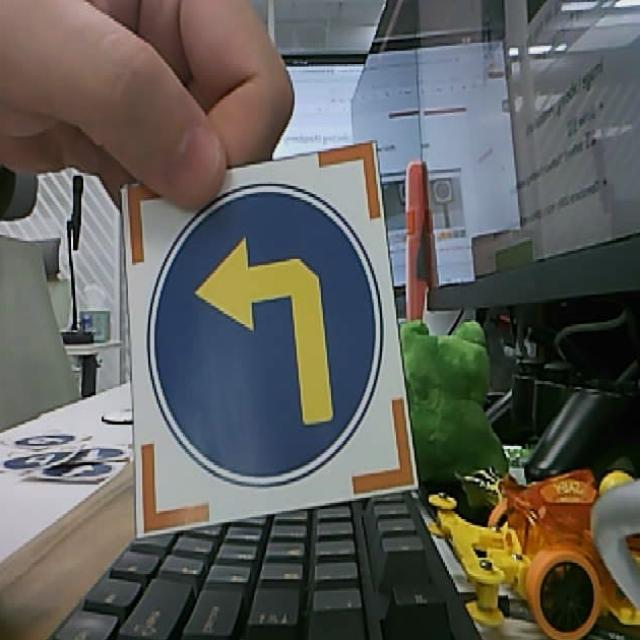turn: (119, 138, 421, 542)
